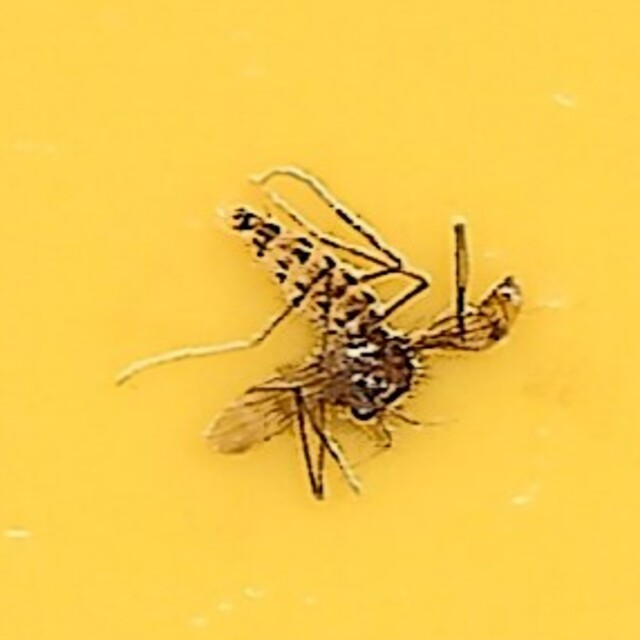Nematocera: (224, 205, 416, 435)
